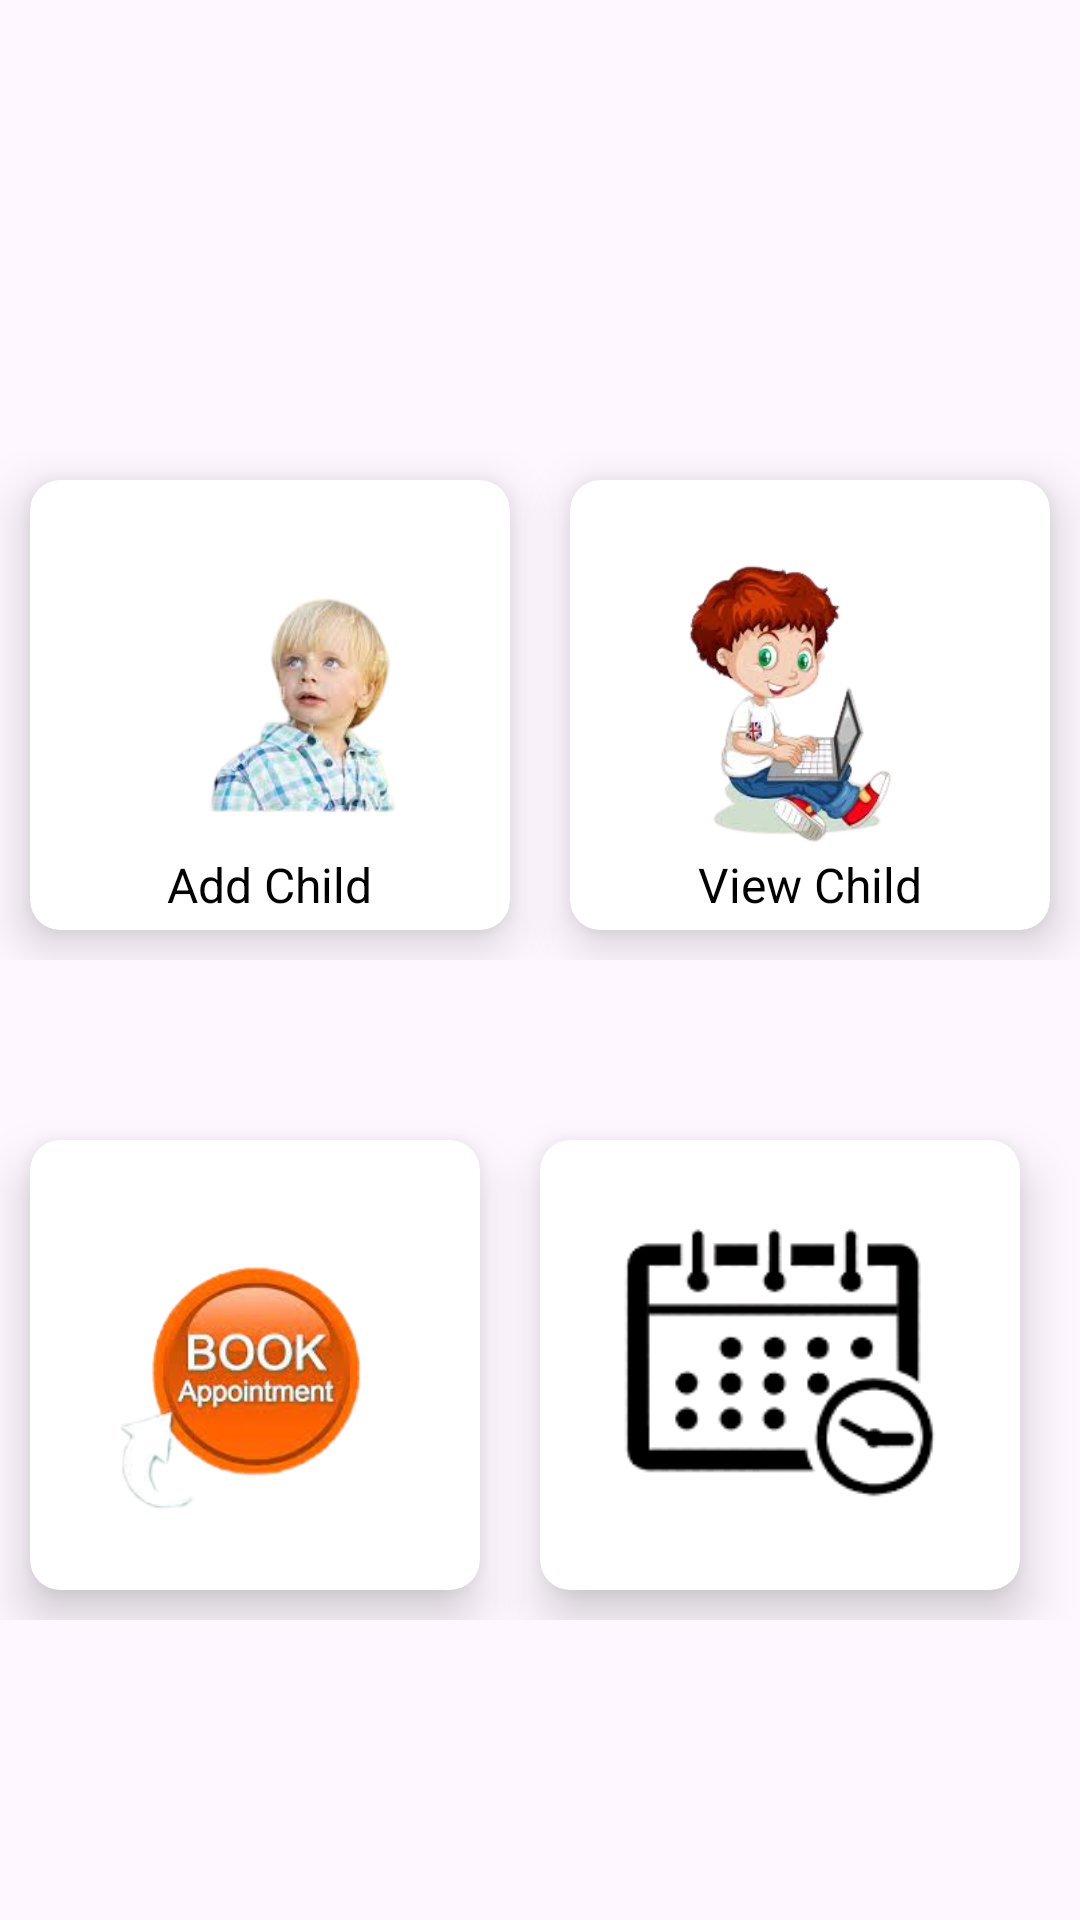

Icons on this 1080px×1920px Android screen, each with the point to tap as (x=x, y=y):
viewappointment: (x=780, y=1363)
